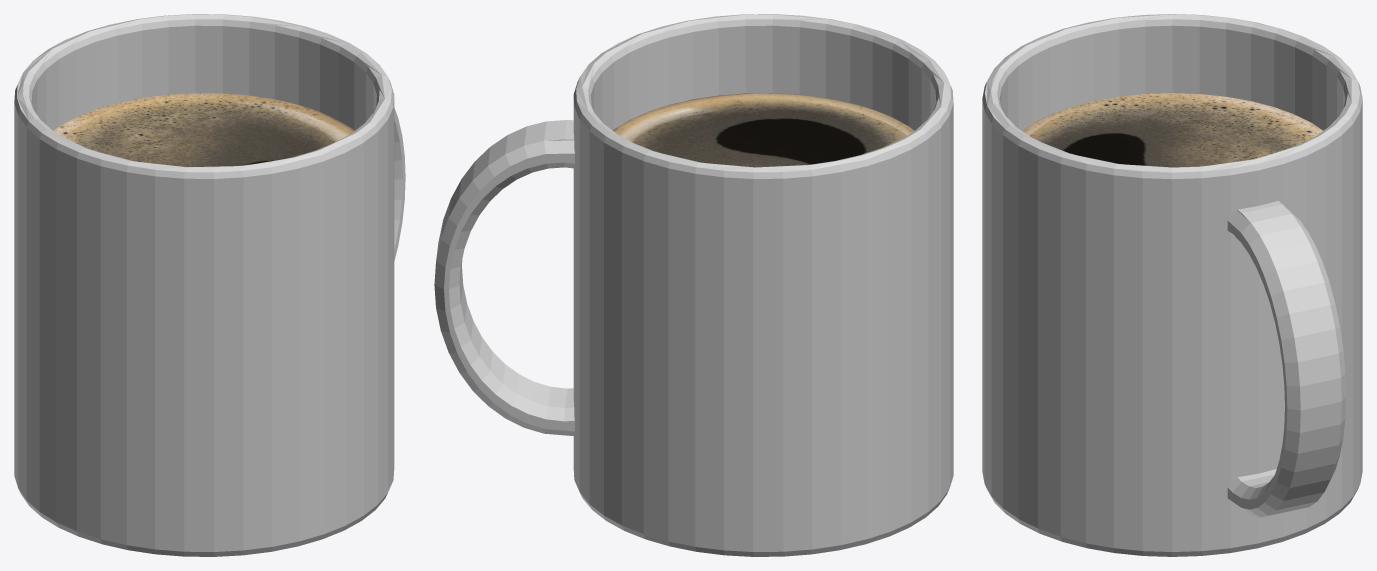
The model's file is mug.glb.
3 views of the same model, side by side, from view 1: azimuth 30°, elevation 25°; view 2: azimuth 150°, elevation 25°; view 3: azimuth 270°, elevation 25° (orthographic).
Visible parts, largest first — view 1: Mug1_Coffee_0; view 2: Mug1_Coffee_0; view 3: Mug1_Coffee_0.
Boxes of the visible parts, x1,y1,x2,y2 form: Mug1_Coffee_0: [14, 14, 405, 556]; Mug1_Coffee_0: [434, 14, 953, 556]; Mug1_Coffee_0: [982, 14, 1362, 556].
Bounding box in the file's own units: 0.314 × 0.2735 × 0.2421.
Materials: 2 (1 with a texture image).
